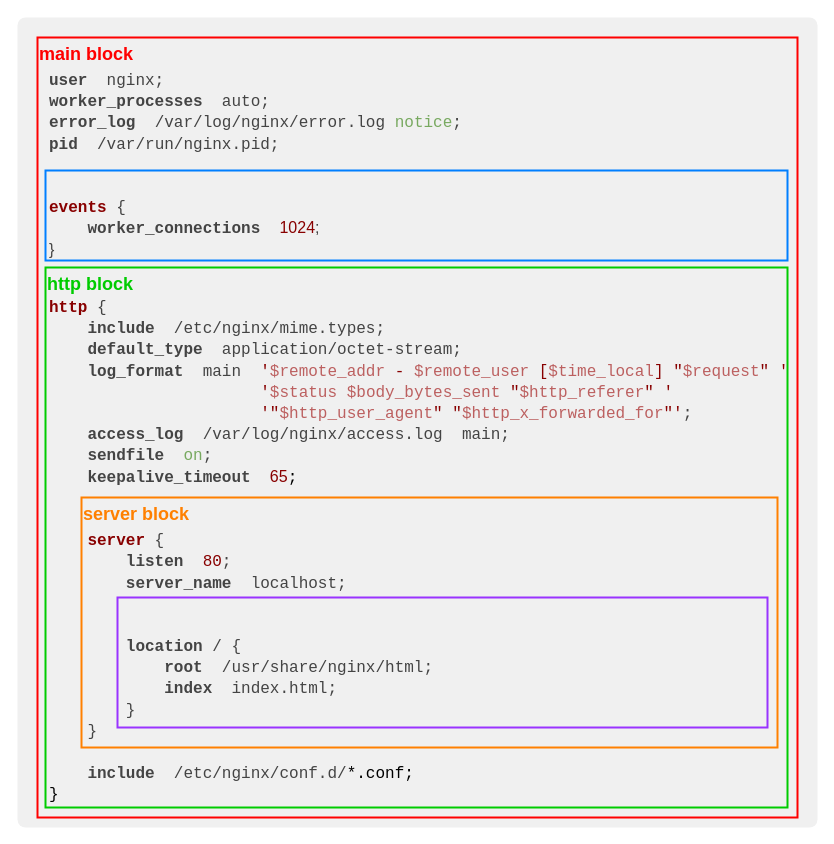
Some shapes in this 834 by 844 pixel diagram are drawn without their labels. Each missing label, with the box of its shape:
events block: (44, 169, 788, 261)
location block: (116, 596, 768, 728)
